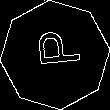P_W: (28, 34, 82, 76)
